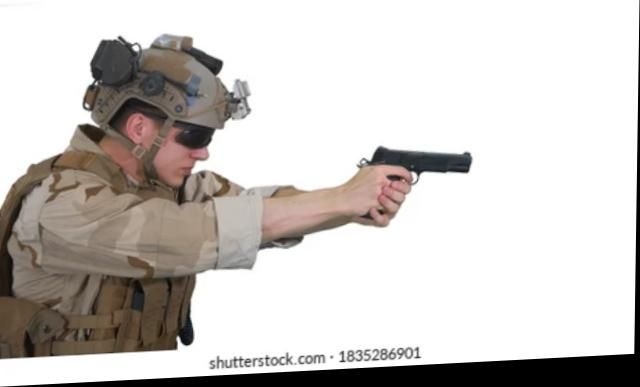other: (23, 43, 234, 353)
